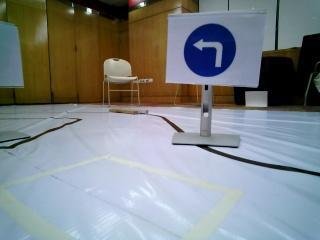left: (171, 16, 250, 82)
